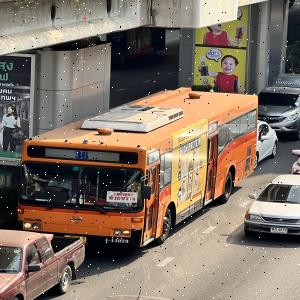BMTA-bus: (16, 87, 259, 249)
Bus Line Number: (70, 148, 94, 162)
Bus Side Number: (103, 236, 131, 245)
Destination Sign: (107, 191, 139, 203)
